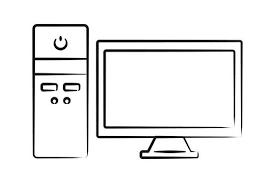monitor: (97, 40, 243, 160)
pc: (32, 25, 90, 158)
